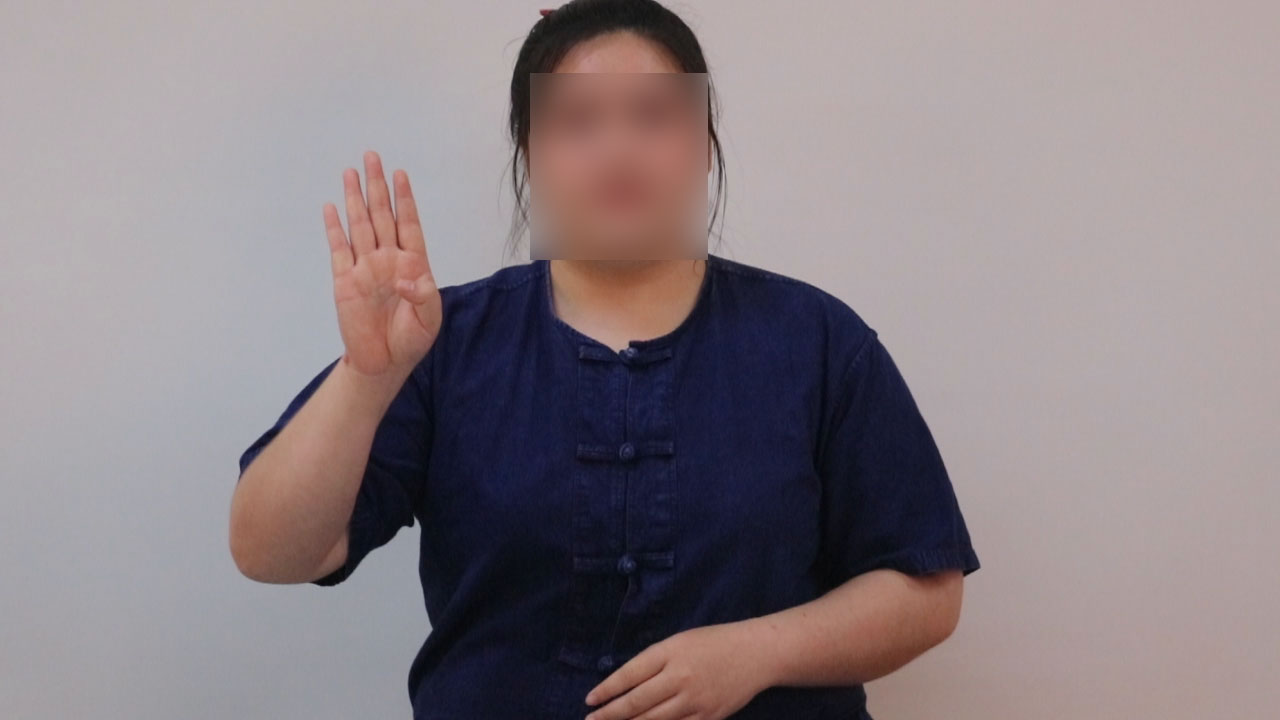bor: (307, 134, 465, 393)
